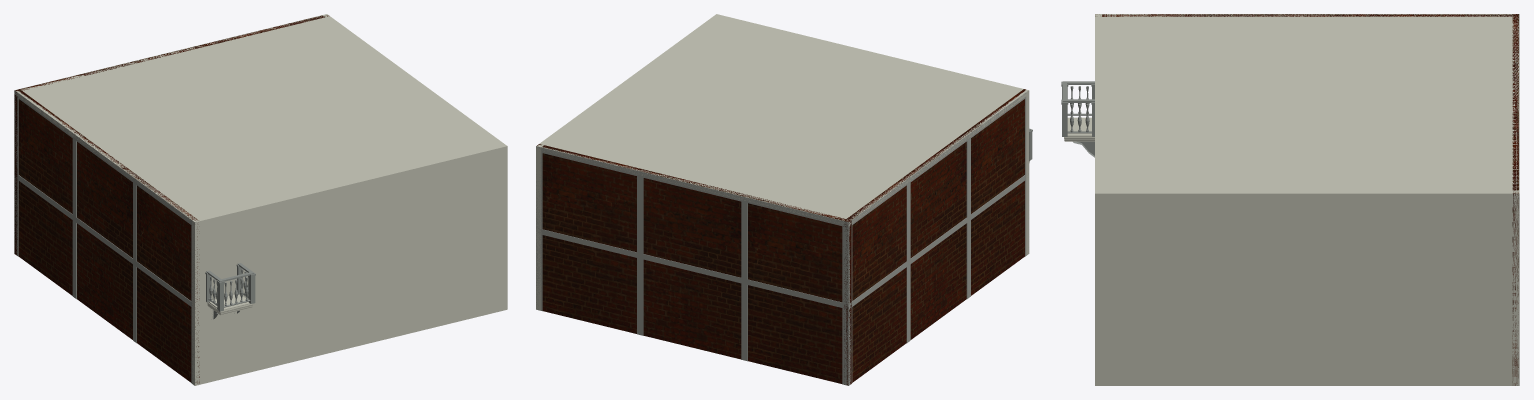
Rendered from building.glb.
3 views of the same model, side by side, from view 1: azimuth 30°, elevation 25°; view 2: azimuth 150°, elevation 25°; view 3: azimuth 270°, elevation 25° (orthographic). The views are drawn at different scales.
Visible parts, largest first — view 1: roof/house:0/roof_slab#0001, house:0/edge0/z0/house:0/edge0/z0/wall_0_0, house:0/edge3/z0/house:0/edge3/z0/wall_0_0, house:0/edge2/z0/house:0/edge2/z0/wall_0_0, house:0/edge1/z0/house:0/edge1/z0/wall_0_0, house:0/edge3/z0/house:0/edge3/z0/beam_0_0, house:0/edge3/z0/house:0/edge3/z0/beam_1_0; view 2: roof/house:0/roof_slab#0001, house:0/edge2/z0/house:0/edge2/z0/wall_0_0, house:0/edge3/z0/house:0/edge3/z0/wall_0_0, house:0/edge2/z0/house:0/edge2/z0/beam_0_0, house:0/edge1/z0/house:0/edge1/z0/wall_0_0, house:0/edge2/z0/house:0/edge2/z0/beam_1_0, house:0/edge0/z0/house:0/edge0/z0/wall_0_0, house:0/edge3/z0/house:0/edge3/z0/beam_0_0, house:0/edge3/z0/house:0/edge3/z0/beam_1_0, house:0/edge2/z0/house:0/edge2/z0/column_1_1, house:0/edge2/z0/house:0/edge2/z0/column_2_0, house:0/edge2/z0/house:0/edge2/z0/column_2_1 (+3 smaller); view 3: house:0/edge1/z0/house:0/edge1/z0/wall_0_0, roof/house:0/roof_slab#0001, house:0/edge0/z0/house:0/edge0/z0/wall_0_0, house:0/edge2/z0/house:0/edge2/z0/wall_0_0, house:0/edge3/z0/house:0/edge3/z0/wall_0_0.
Part boxes in pixels (bbox=[...]): roof/house:0/roof_slab#0001: bbox=[14, 16, 507, 224]; house:0/edge0/z0/house:0/edge0/z0/wall_0_0: bbox=[192, 144, 507, 385]; house:0/edge3/z0/house:0/edge3/z0/wall_0_0: bbox=[18, 89, 199, 383]; house:0/edge2/z0/house:0/edge2/z0/wall_0_0: bbox=[14, 15, 328, 255]; house:0/edge1/z0/house:0/edge1/z0/wall_0_0: bbox=[322, 14, 507, 310]; house:0/edge3/z0/house:0/edge3/z0/beam_0_0: bbox=[14, 172, 194, 309]; house:0/edge3/z0/house:0/edge3/z0/beam_1_0: bbox=[14, 90, 194, 225]; roof/house:0/roof_slab#0001: bbox=[536, 14, 1028, 225]; house:0/edge2/z0/house:0/edge2/z0/wall_0_0: bbox=[537, 144, 851, 384]; house:0/edge3/z0/house:0/edge3/z0/wall_0_0: bbox=[843, 89, 1025, 385]; house:0/edge2/z0/house:0/edge2/z0/beam_0_0: bbox=[536, 228, 848, 309]; house:0/edge1/z0/house:0/edge1/z0/wall_0_0: bbox=[536, 15, 720, 310]; house:0/edge2/z0/house:0/edge2/z0/beam_1_0: bbox=[536, 146, 848, 227]; house:0/edge0/z0/house:0/edge0/z0/wall_0_0: bbox=[714, 14, 1029, 255]; house:0/edge3/z0/house:0/edge3/z0/beam_0_0: bbox=[848, 173, 1028, 309]; house:0/edge3/z0/house:0/edge3/z0/beam_1_0: bbox=[848, 90, 1028, 227]; house:0/edge2/z0/house:0/edge2/z0/column_1_1: bbox=[842, 226, 848, 303]; house:0/edge2/z0/house:0/edge2/z0/column_2_0: bbox=[637, 176, 643, 253]; house:0/edge2/z0/house:0/edge2/z0/column_2_1: bbox=[637, 258, 643, 335]; house:0/edge1/z0/house:0/edge1/z0/wall_0_0: bbox=[1095, 190, 1519, 385]; roof/house:0/roof_slab#0001: bbox=[1095, 14, 1519, 197]; house:0/edge0/z0/house:0/edge0/z0/wall_0_0: bbox=[1095, 14, 1101, 385]; house:0/edge2/z0/house:0/edge2/z0/wall_0_0: bbox=[1512, 14, 1518, 385]; house:0/edge3/z0/house:0/edge3/z0/wall_0_0: bbox=[1095, 14, 1512, 16].
Bounding box in the file's own units: 12 × 6 × 12.95.
Materials: 4 (1 with a texture image).
